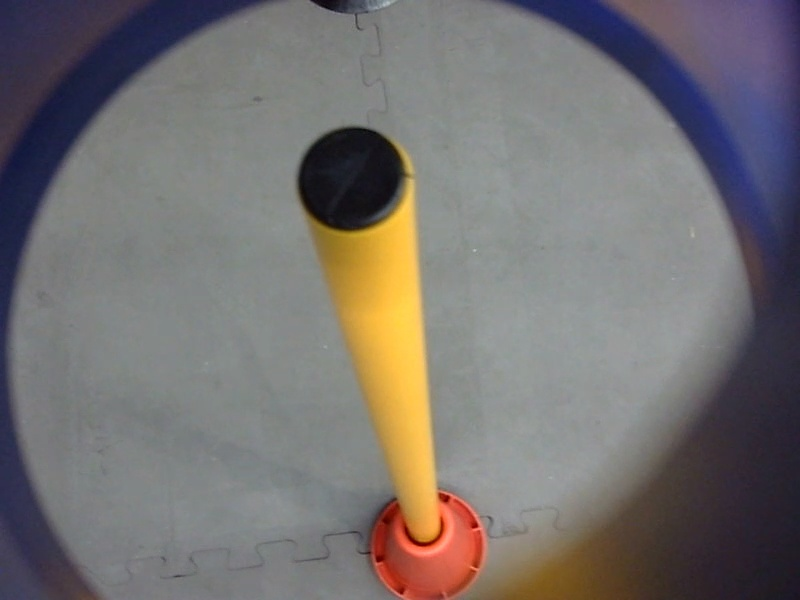tip: (281, 118, 420, 245)
